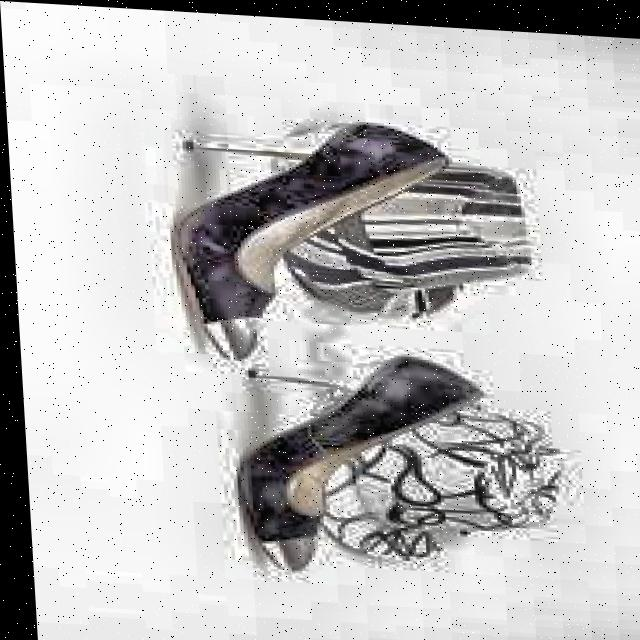shoes: (146, 85, 501, 603)
